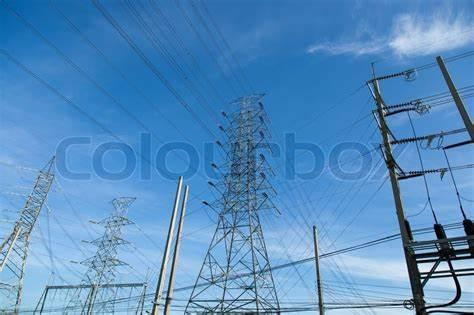power_tower: (183, 92, 289, 315), (0, 151, 65, 314), (65, 188, 135, 315)
